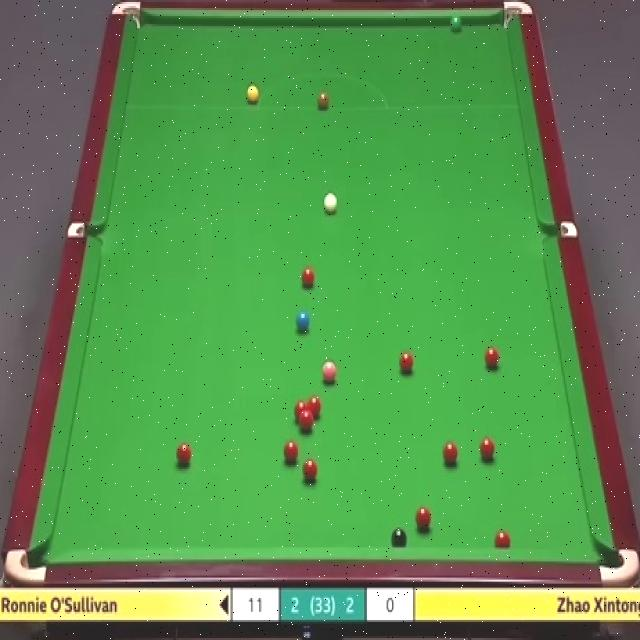black-ball: (389, 527, 406, 550)
blue-ball: (294, 310, 310, 335)
brown-ball: (316, 89, 330, 112)
green-ball: (449, 13, 465, 32)
pink-ball: (322, 357, 337, 384)
red-ball: (398, 349, 416, 377), (301, 458, 318, 486), (414, 506, 431, 533), (175, 442, 192, 469), (479, 436, 495, 462), (284, 438, 300, 464), (484, 345, 500, 370), (300, 267, 316, 291), (442, 442, 458, 466), (308, 396, 322, 421), (495, 528, 511, 548), (294, 400, 308, 421), (300, 412, 313, 432)
white-ball: (322, 190, 340, 218)
yellow-ball: (244, 84, 259, 104)
